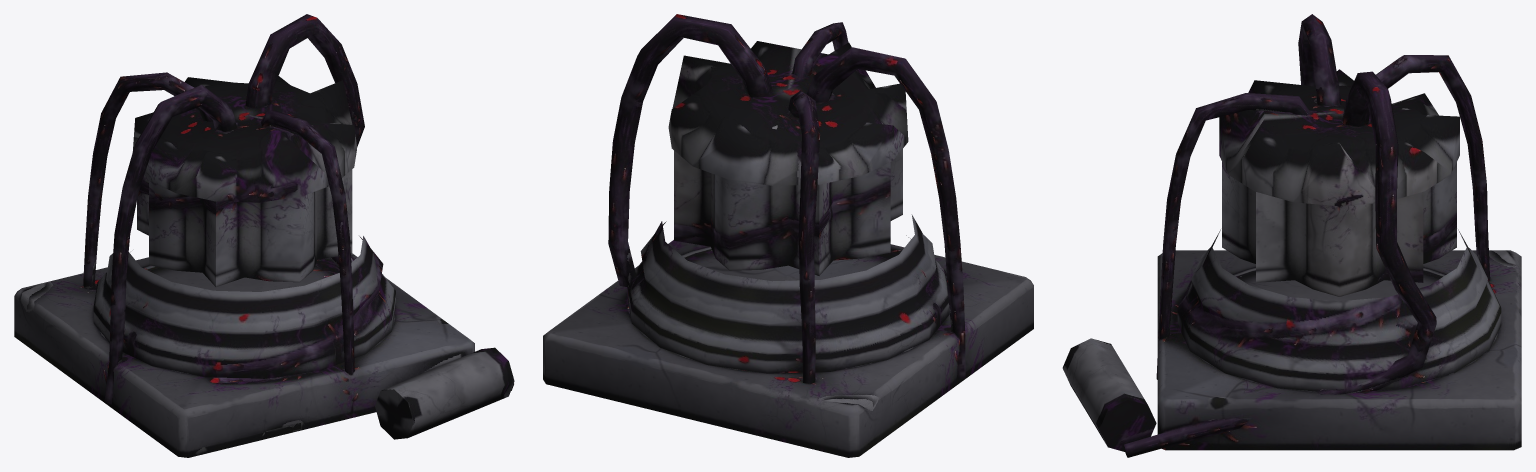
Rendered from thorn_pillar_low.glb.
3 renders of one model, left to right at view 1: azimuth 30°, elevation 25°; view 2: azimuth 150°, elevation 25°; view 3: azimuth 270°, elevation 25°, orthographic. The views are drawn at different scales.
Visible parts, largest first — view 1: thorn_pillar_low; view 2: thorn_pillar_low; view 3: thorn_pillar_low.
Part boxes in pixels (x1,y1,x2,y2): thorn_pillar_low: (14, 14, 514, 457); thorn_pillar_low: (543, 14, 1033, 457); thorn_pillar_low: (1062, 14, 1521, 457).
Bounding box in the file's own units: 1.48 × 1.36 × 1.72.
1 material, 1 textured.
